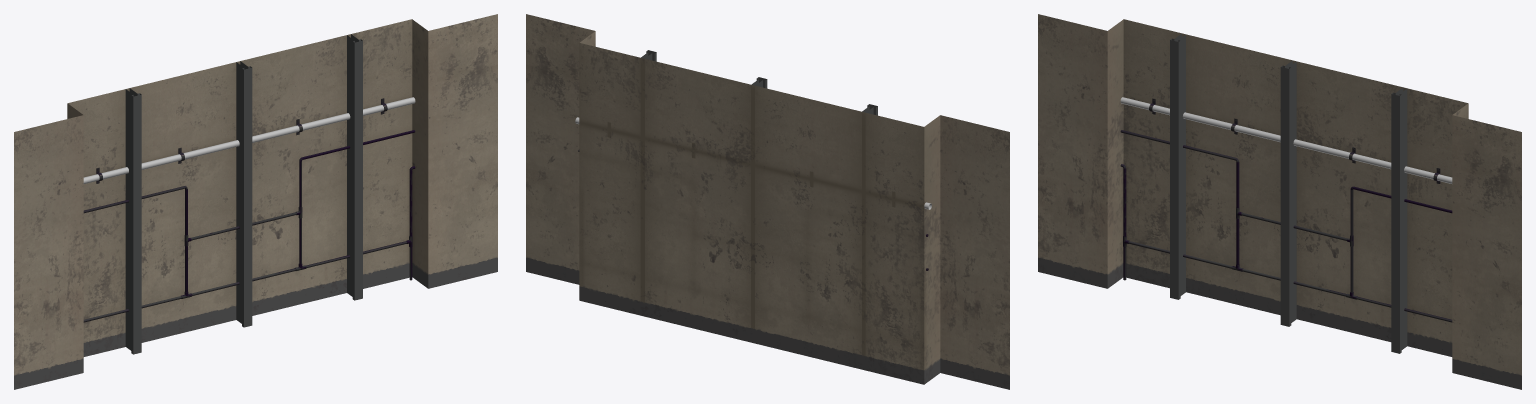
The model's file is Wall_3.fbx.
3 views of the same model, side by side, from view 1: azimuth 30°, elevation 25°; view 2: azimuth 150°, elevation 25°; view 3: azimuth 330°, elevation 25° (orthographic).
Visible parts, largest first — view 1: wall_3_pipes; view 2: wall_3_pipes; view 3: wall_3_pipes.
Part boxes in pixels (x1,y1,x2,y2): wall_3_pipes: [14, 14, 497, 389]; wall_3_pipes: [526, 14, 1009, 389]; wall_3_pipes: [1038, 14, 1521, 389].
Size of the model in its own units: 21.6 by 11 by 1.25.
